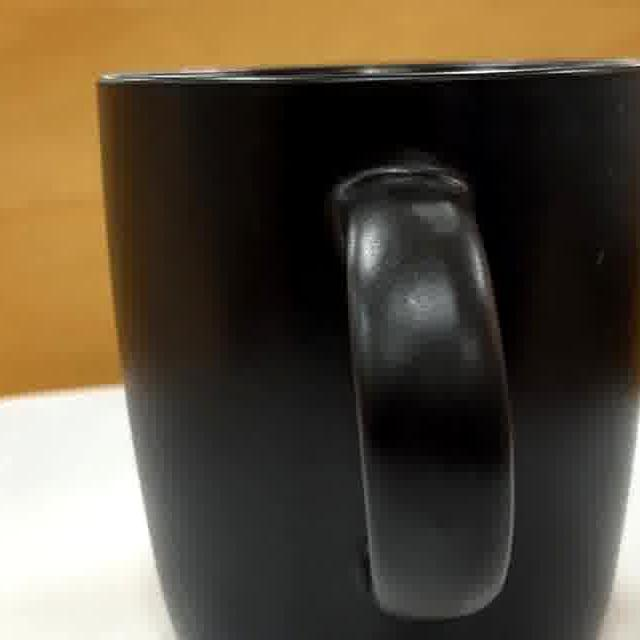cup: (100, 67, 640, 640)
